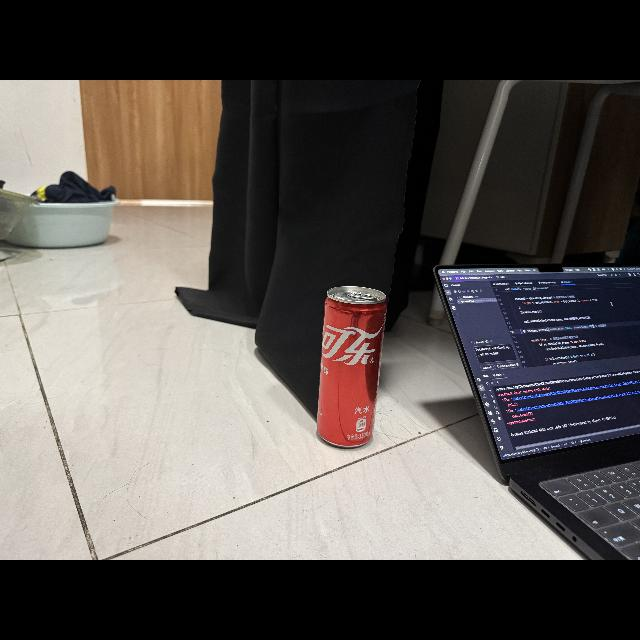Cola: (312, 283, 392, 453)
